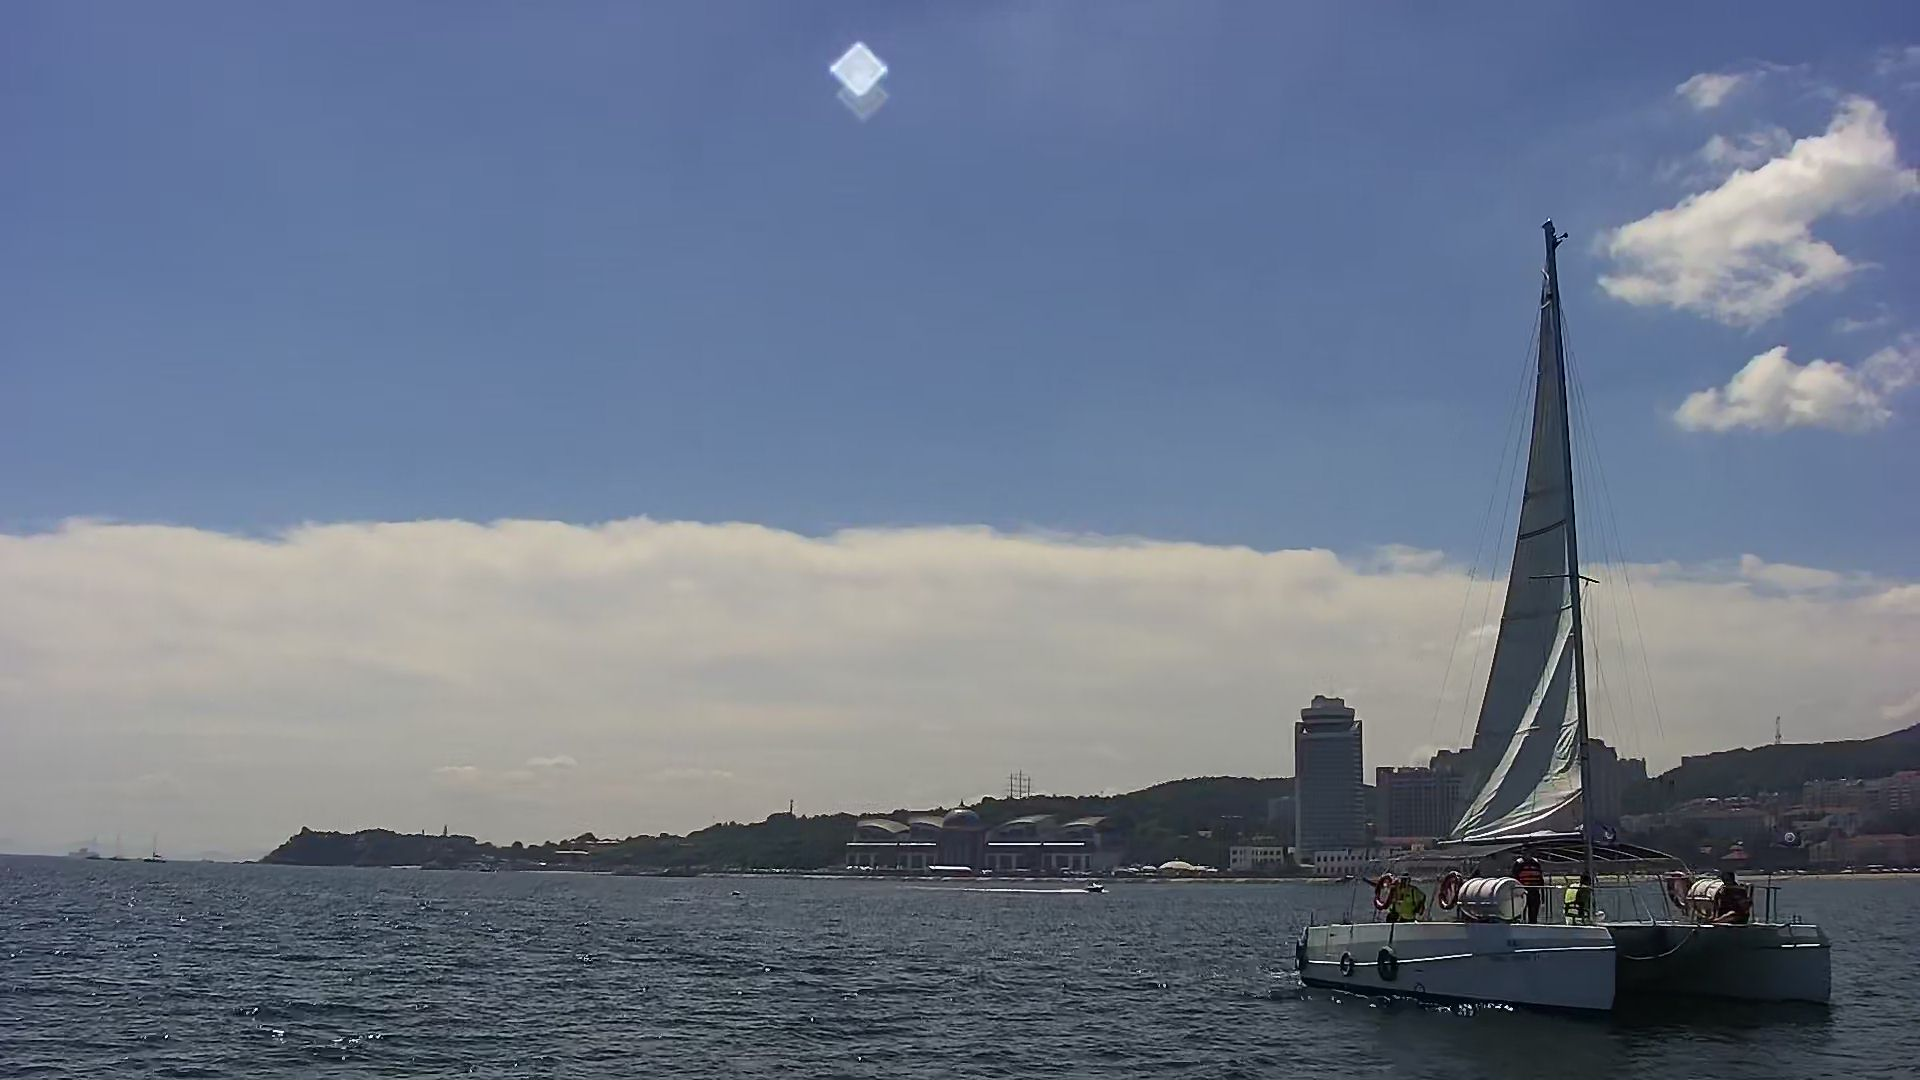boat: (1294, 222, 1847, 1036)
